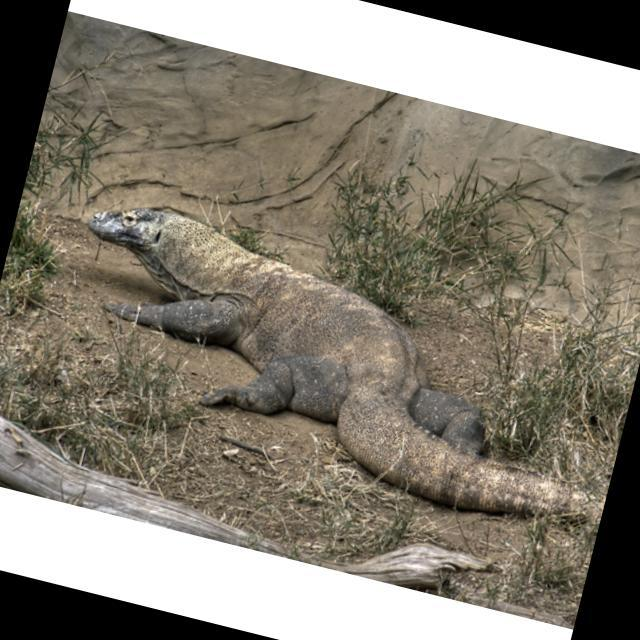KomodoDragon: (35, 182, 640, 545)
